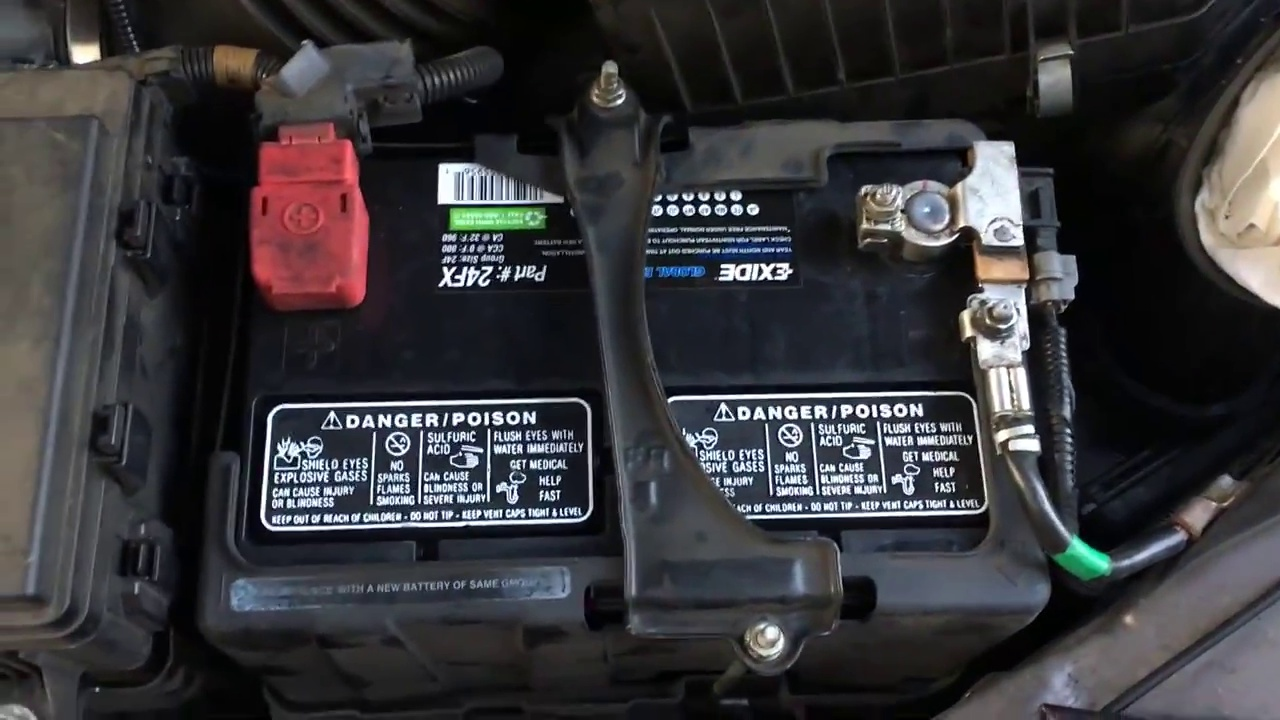battery: (200, 97, 1070, 601)
neg_connected: (828, 113, 1053, 289)
pos_connected: (204, 75, 403, 315)
